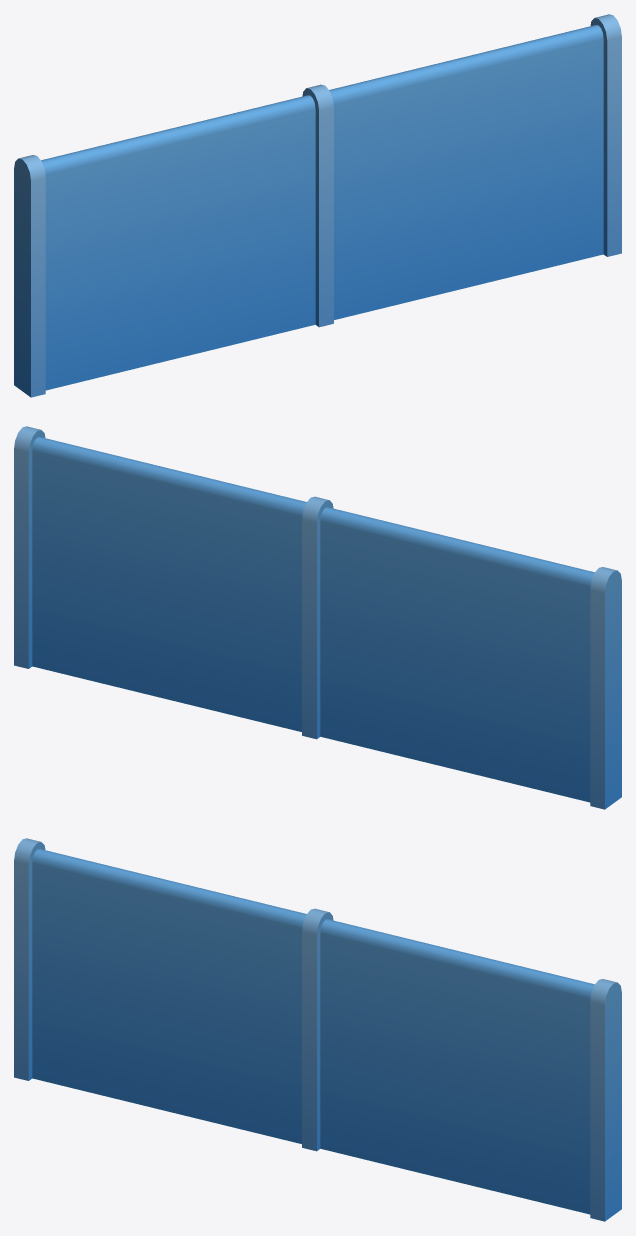
The model's file is Multiplier.fbx.
3 views of the same model, one above another, from view 1: azimuth 30°, elevation 25°; view 2: azimuth 150°, elevation 25°; view 3: azimuth 330°, elevation 25° (orthographic).
Visible parts, largest first — view 1: Multiplier-Door-R, Multiplier-Door-L, Multiplier-Pole-R, Multiplier-Pole-M, Multiplier-Pole-L; view 2: Multiplier-Door-R, Multiplier-Door-L, Multiplier-Pole-R, Multiplier-Pole-M, Multiplier-Pole-L; view 3: Multiplier-Door-L, Multiplier-Door-R, Multiplier-Pole-L, Multiplier-Pole-M, Multiplier-Pole-R.
Part boxes in pixels (x1=…): Multiplier-Door-R: x1=41, y1=95, x2=315, y2=390; Multiplier-Door-L: x1=329, y1=25, x2=603, y2=319; Multiplier-Pole-R: x1=14, y1=155, x2=45, y2=397; Multiplier-Pole-M: x1=302, y1=84, x2=333, y2=327; Multiplier-Pole-L: x1=590, y1=14, x2=621, y2=256; Multiplier-Door-R: x1=320, y1=507, x2=594, y2=802; Multiplier-Door-L: x1=32, y1=437, x2=306, y2=731; Multiplier-Pole-R: x1=590, y1=567, x2=621, y2=809; Multiplier-Pole-M: x1=302, y1=496, x2=333, y2=739; Multiplier-Pole-L: x1=14, y1=426, x2=45, y2=668; Multiplier-Door-L: x1=320, y1=919, x2=594, y2=1214; Multiplier-Door-R: x1=32, y1=849, x2=306, y2=1143; Multiplier-Pole-L: x1=590, y1=979, x2=621, y2=1221; Multiplier-Pole-M: x1=302, y1=908, x2=333, y2=1151; Multiplier-Pole-R: x1=14, y1=838, x2=45, y2=1080.
Size of the model in its own units: 2 by 0.75 by 0.1.
